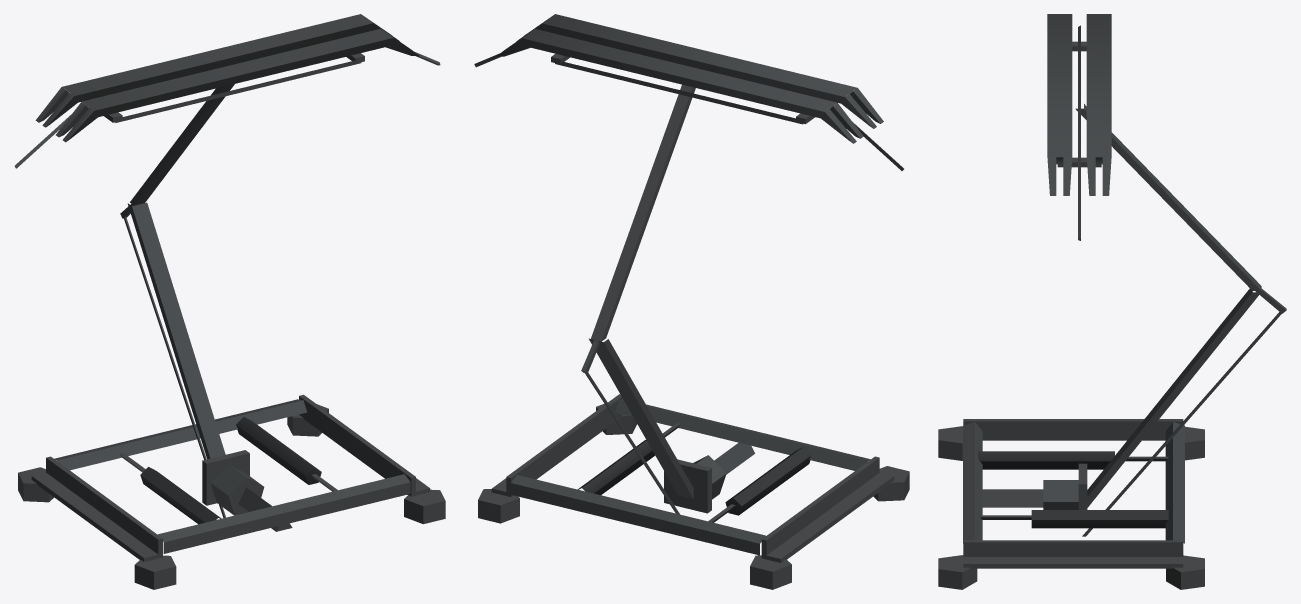
The model's file is 800_PANTA_3.glb.
3 views of the same model, side by side, from view 1: azimuth 30°, elevation 25°; view 2: azimuth 150°, elevation 25°; view 3: azimuth 270°, elevation 25° (orthographic). The views are drawn at different scales.
Parts seen in each view (by area): view 1: PANTA; view 2: PANTA; view 3: PANTA.
Part boxes in pixels (x1,y1,x2,y2): PANTA: [14, 14, 445, 589]; PANTA: [474, 14, 909, 589]; PANTA: [938, 14, 1286, 589].
Bounding box in the file's own units: 4.48 × 4.63 × 3.24.
Materials: 1 (1 with a texture image).
